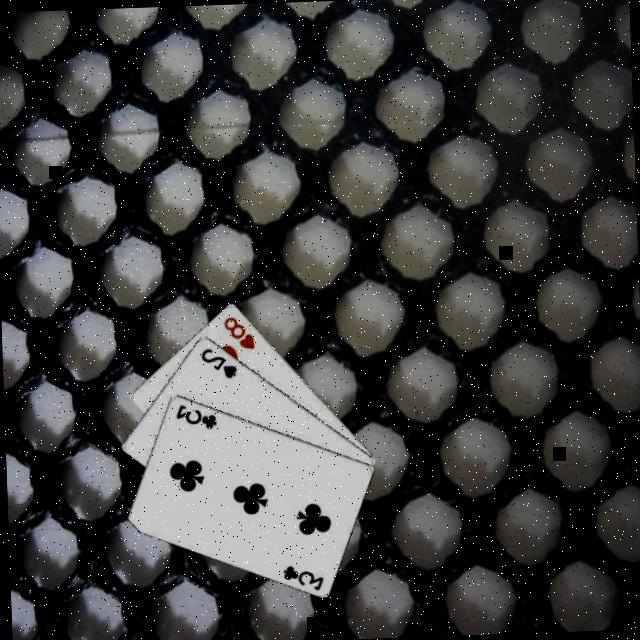2S: (198, 341, 240, 380)
3C: (173, 397, 220, 431), (280, 559, 327, 593)
8H: (221, 310, 258, 350)
